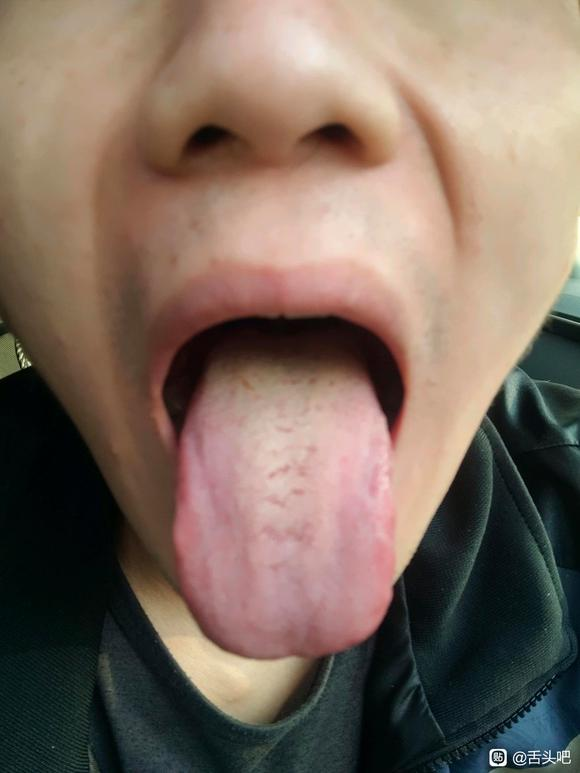huangtaishe: (172, 327, 396, 660)
liewenshe: (263, 417, 316, 543)
xinfeiao: (259, 637, 324, 661)
